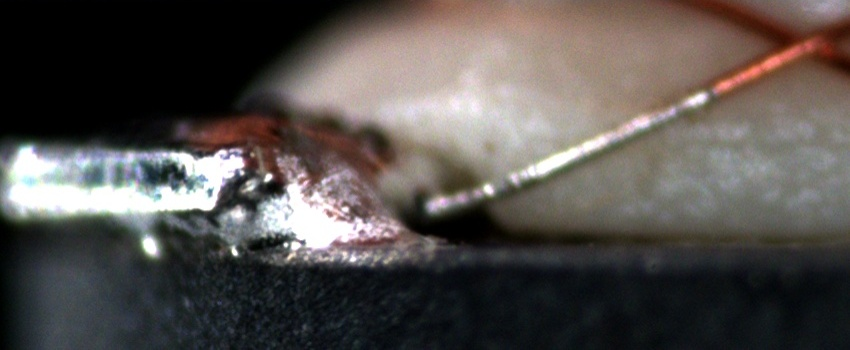CL: (754, 12, 839, 75)
DL: (671, 113, 850, 177)
TS: (423, 83, 714, 218)
